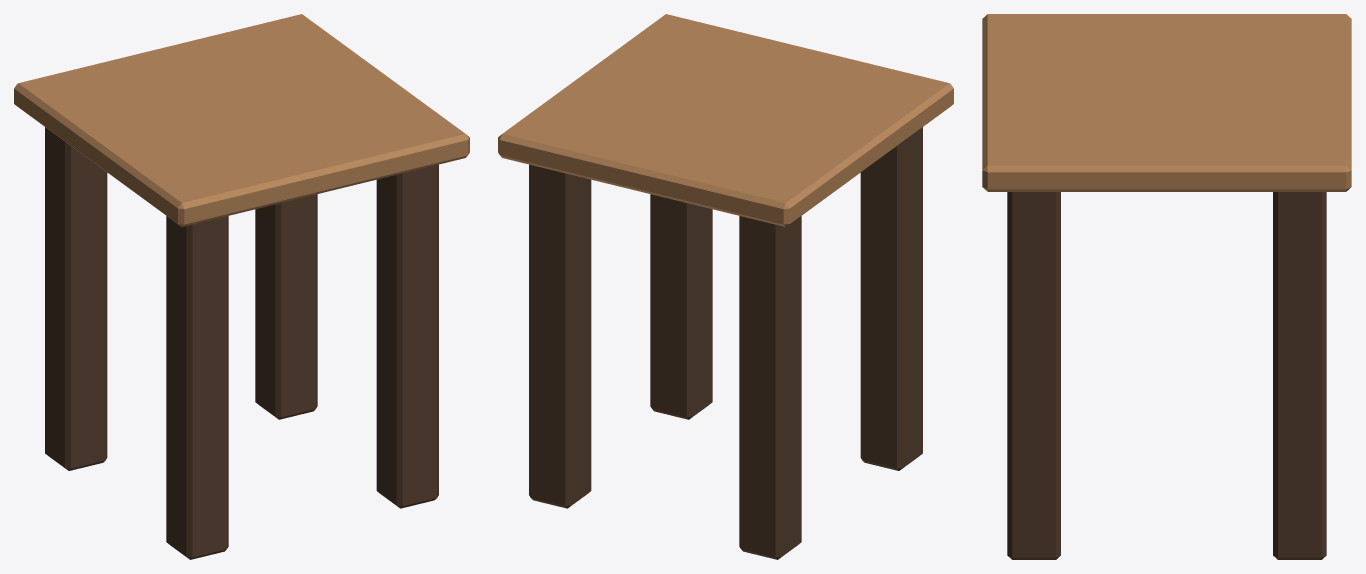
The model's file is stool.glb.
3 views of the same model, side by side, from view 1: azimuth 30°, elevation 25°; view 2: azimuth 150°, elevation 25°; view 3: azimuth 270°, elevation 25° (orthographic). The views are drawn at different scales.
Visible parts, largest first — view 1: Alfa_stool; view 2: Alfa_stool; view 3: Alfa_stool.
Boxes of the visible parts, box(x1,y1,x2,y2) form: Alfa_stool: box(14, 14, 469, 559); Alfa_stool: box(498, 14, 953, 559); Alfa_stool: box(982, 14, 1351, 559).
Bounding box in the file's own units: 0.38 × 0.46 × 0.38.
